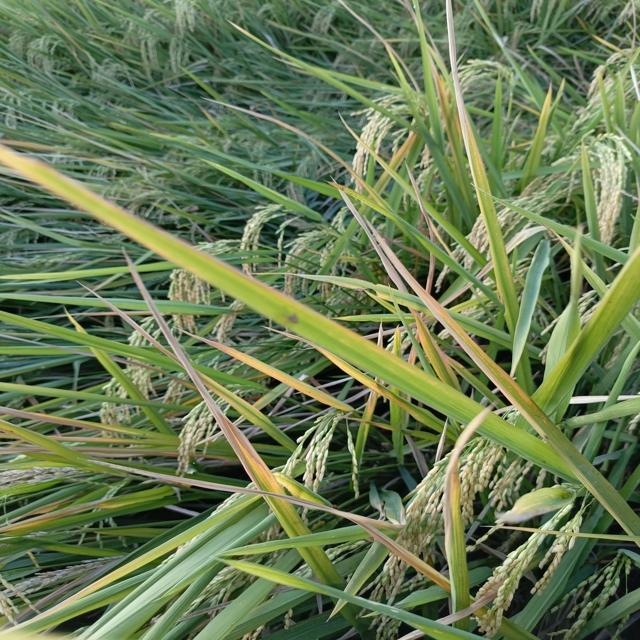Brown spot: (119, 243, 314, 511), (417, 401, 503, 584), (441, 1, 507, 218), (0, 396, 115, 432), (524, 78, 559, 159), (326, 177, 376, 214)
